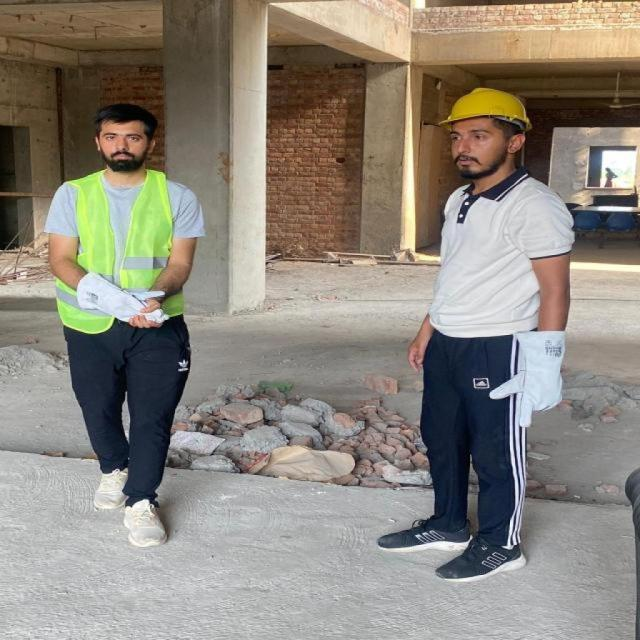Gloves-Detection: (490, 327, 566, 420), (77, 267, 172, 332)
